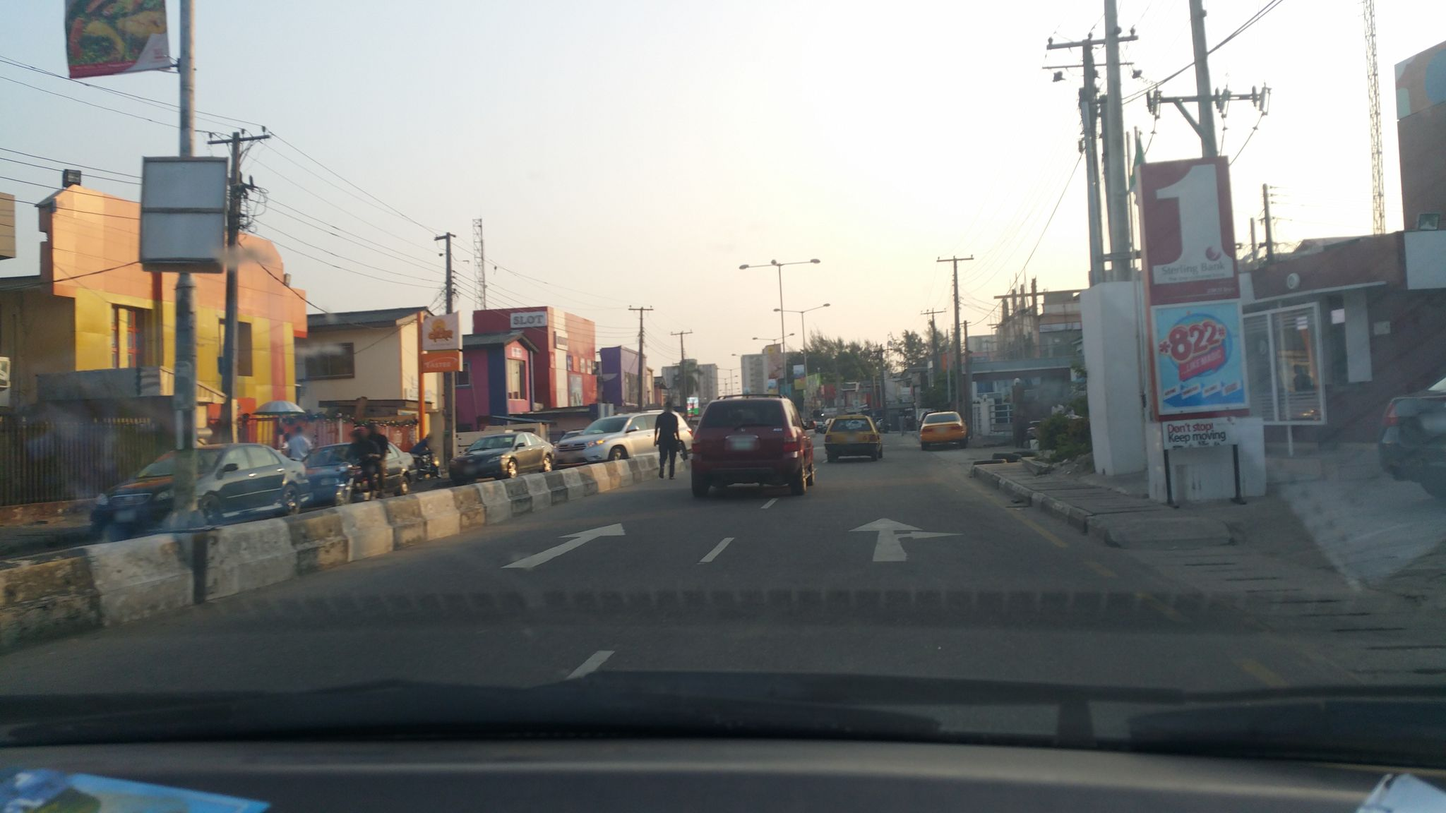Billboard: (1152, 300, 1248, 417)
